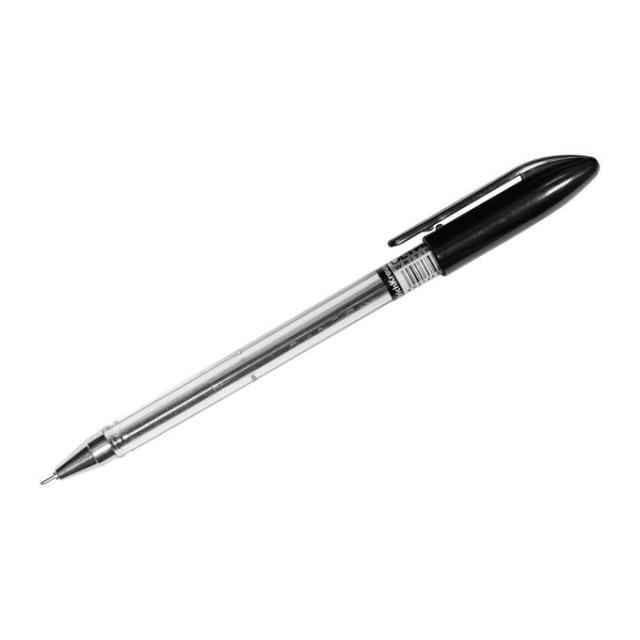pencil: (2, 145, 612, 509)
